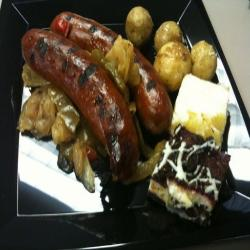hotdog: (13, 13, 179, 176)
